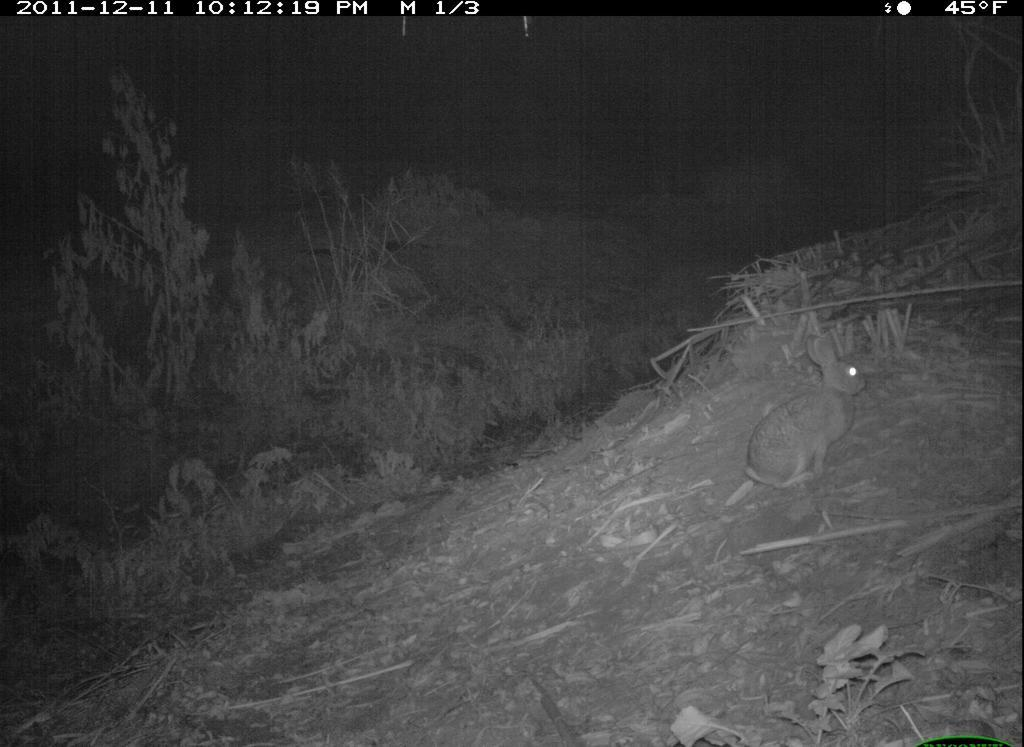rabbit: (743, 324, 880, 497)
